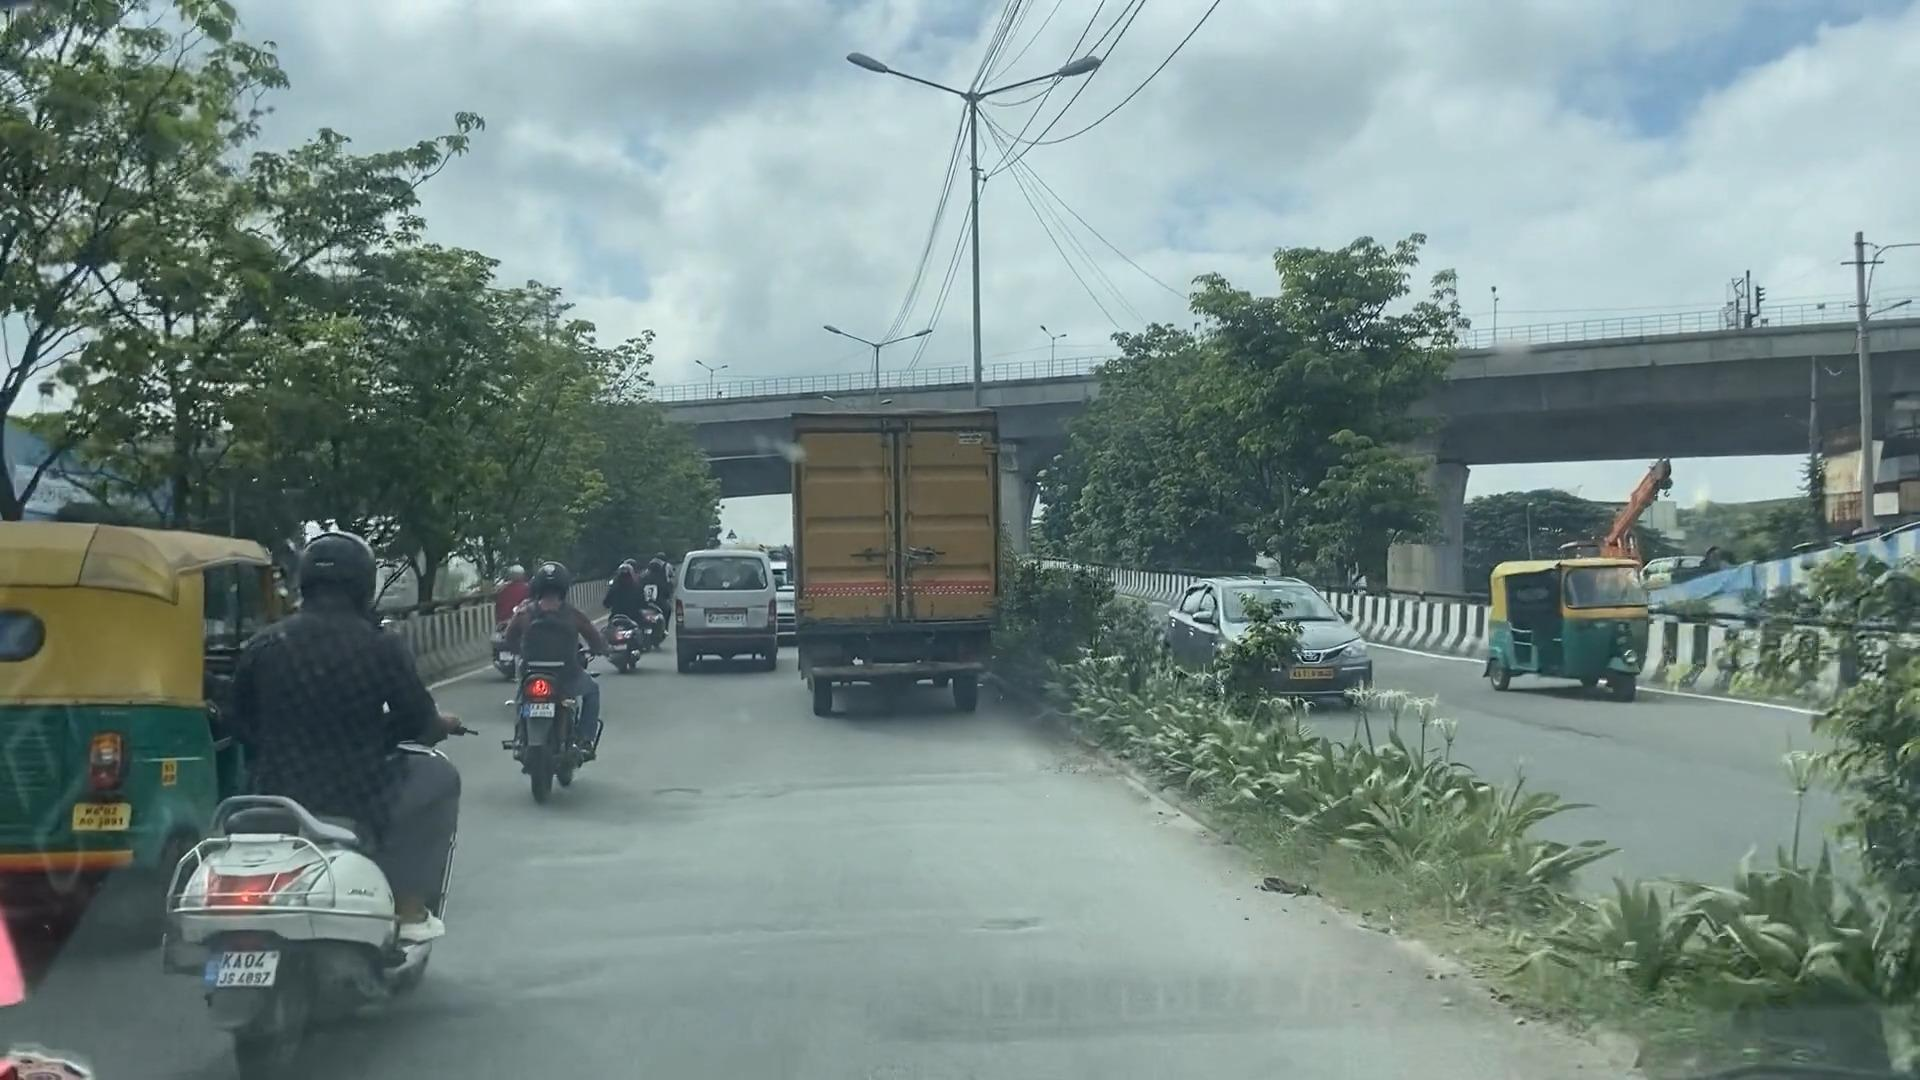HMV: (800, 413, 1001, 704)
LMV: (200, 526, 443, 1080), (506, 560, 596, 794), (674, 543, 770, 670)
